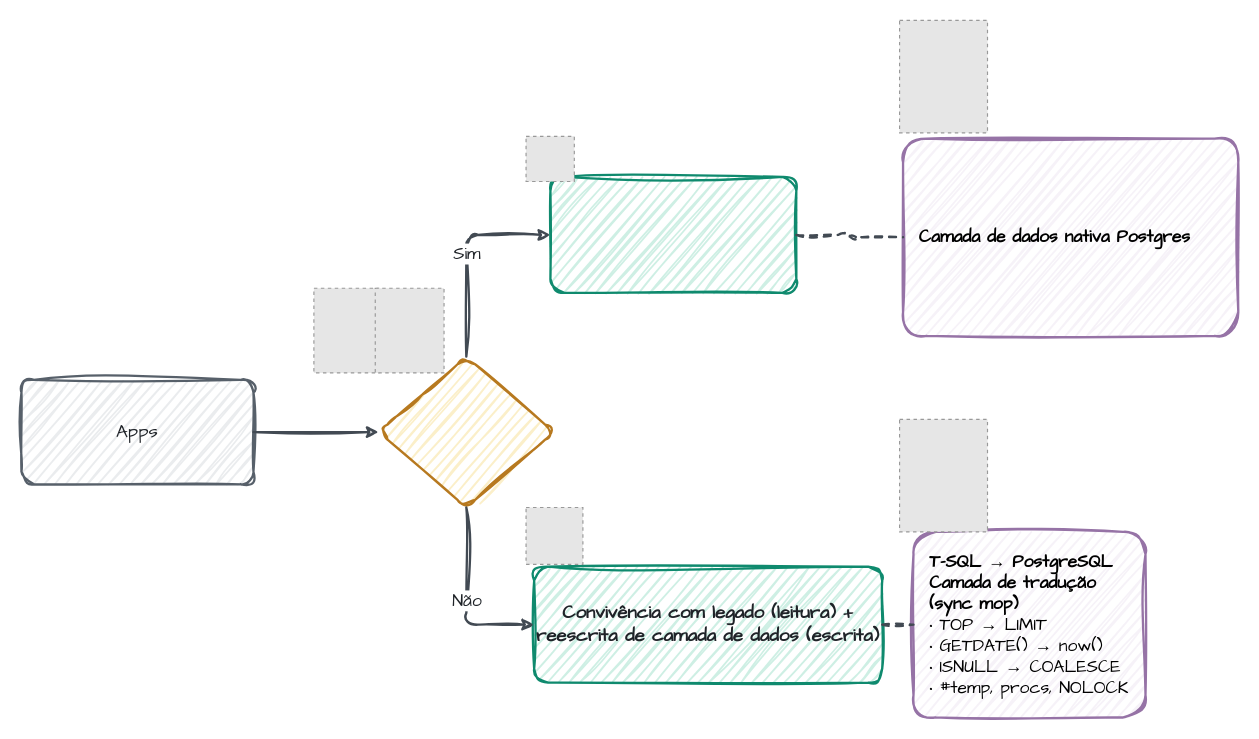
Some shapes in this 1259 by 739 pixel diagram are drawn without their labels. Grey dashed boxes stand in for pictures. The shapes that lost their labels are listed below. From the top down, each one's centre as x and y in pixels, then its label:
the point at 673,234: Acesso direto ao RDS, camada de dados reescrita
the point at 465,431: Modernizadas
